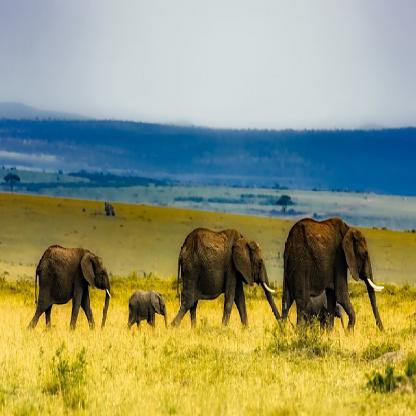elephant: (278, 219, 386, 339), (174, 226, 276, 325), (27, 239, 115, 332), (126, 289, 166, 340)
